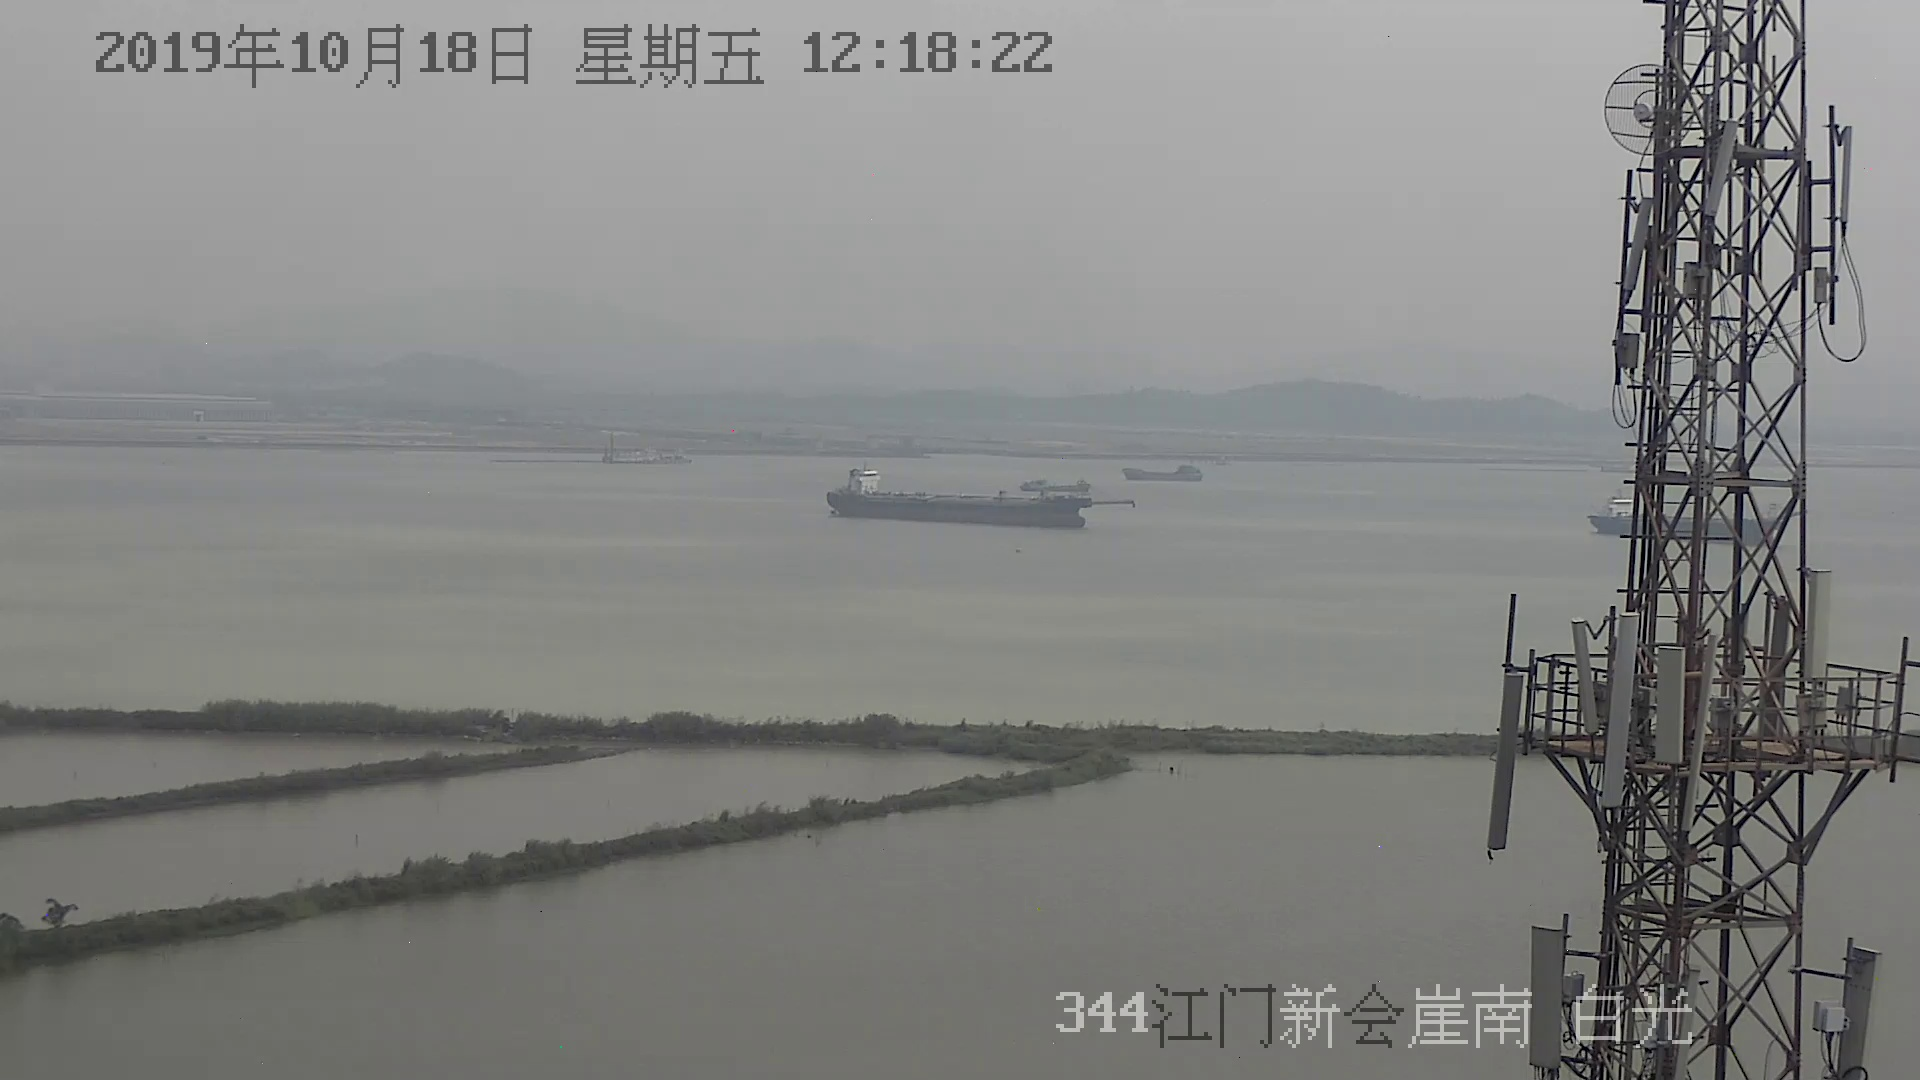ship: (831, 465, 1092, 526)
